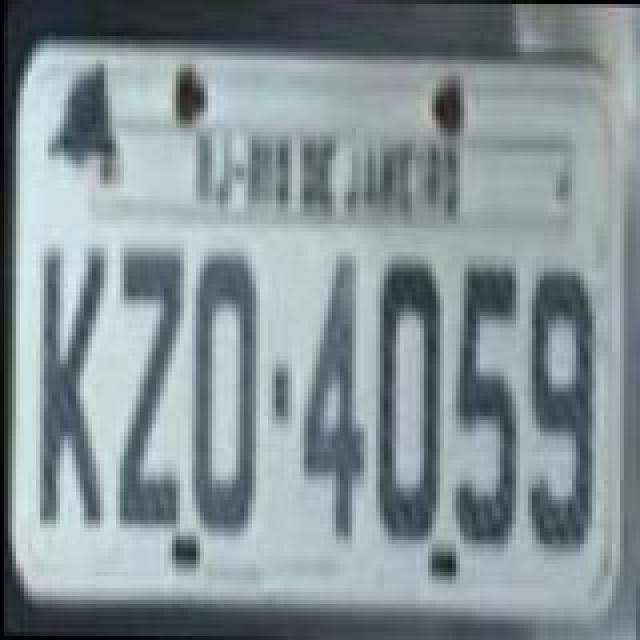4: (302, 240, 370, 544)
5: (450, 252, 526, 552)
9: (522, 266, 598, 558)
K: (34, 240, 110, 536)
O: (186, 240, 262, 540), (370, 254, 446, 550)
Z: (114, 238, 190, 534)
